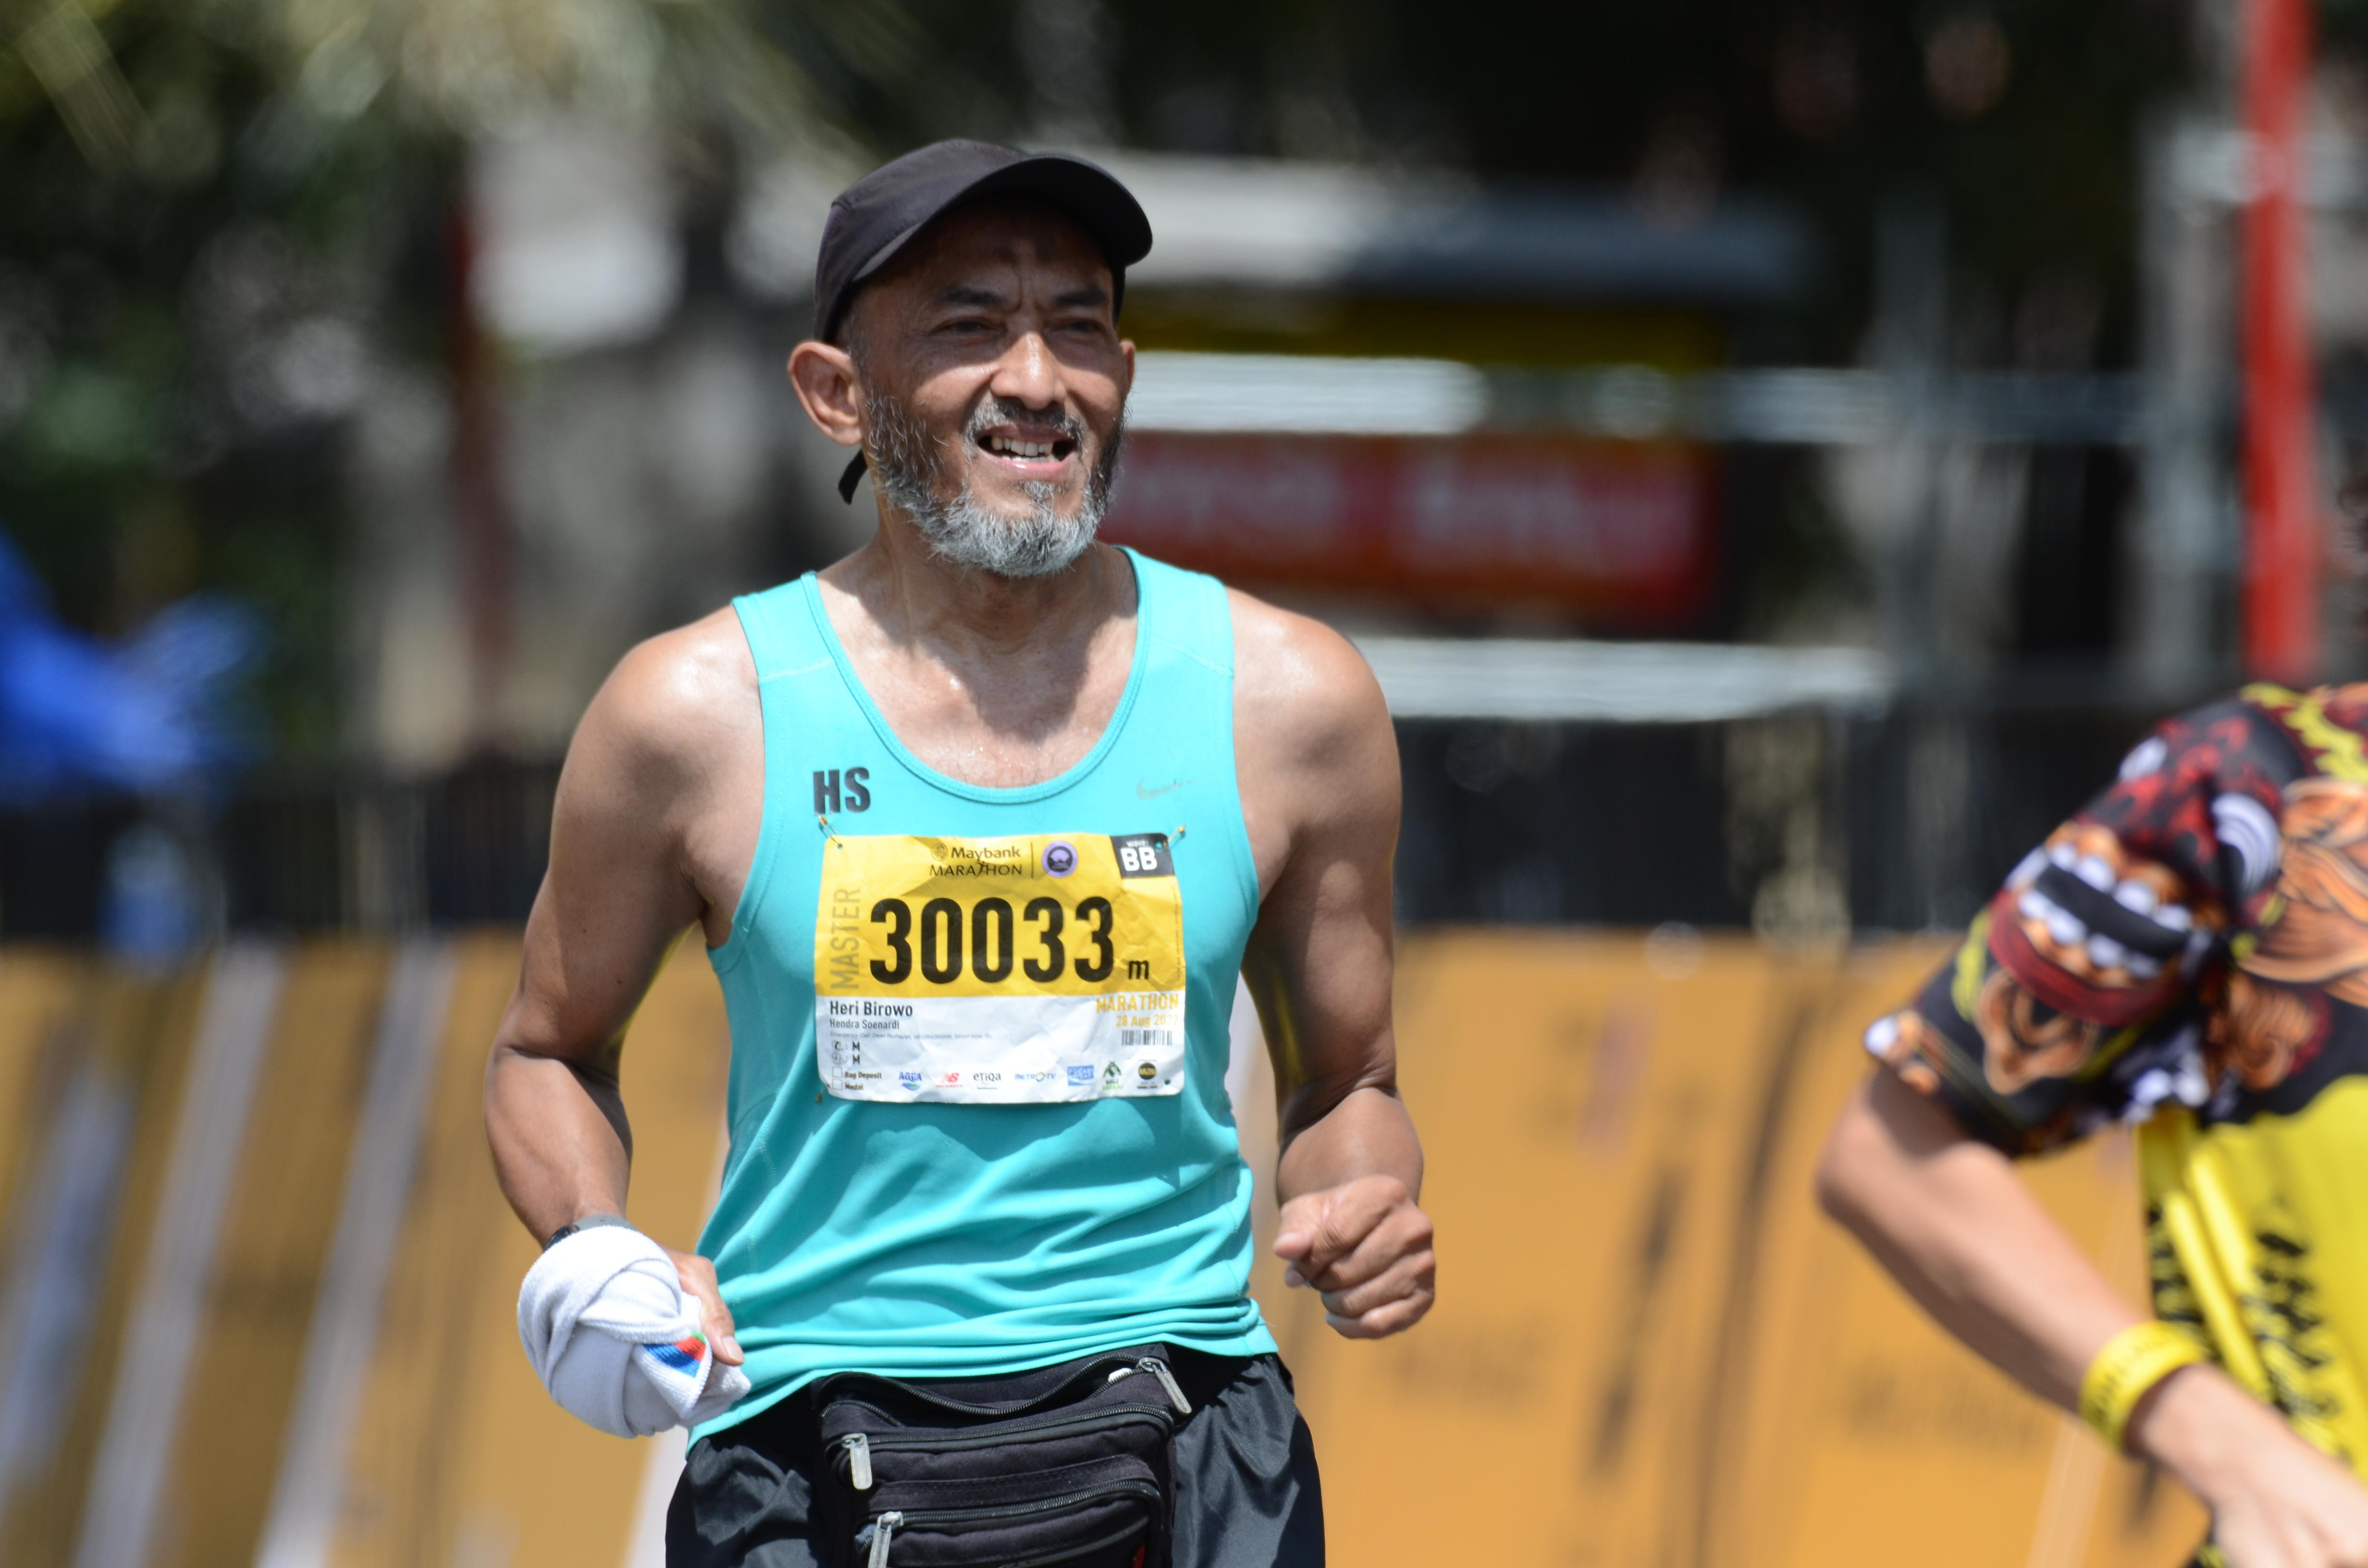bib: (802, 840, 1187, 1102)
